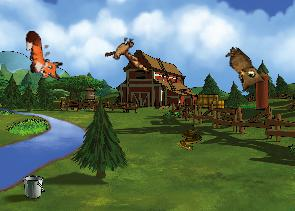eagle: (103, 35, 152, 74)
fox: (23, 28, 64, 83)
owl: (215, 44, 268, 96)
